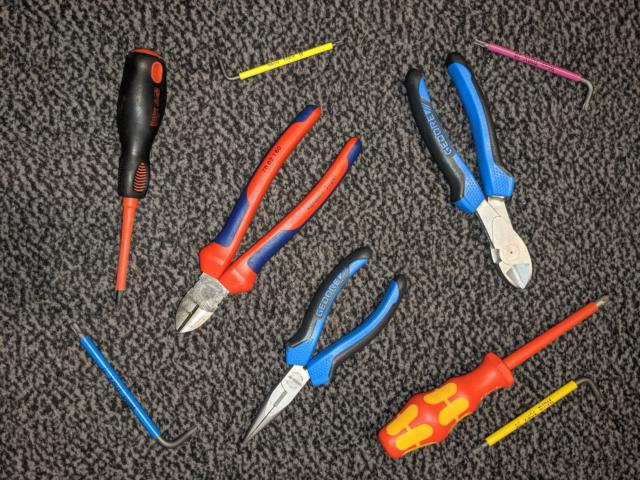Inbusschlüssel: (64, 317, 201, 456), (464, 375, 608, 463), (466, 32, 597, 113), (216, 34, 350, 87)
Schraubendreher: (375, 293, 616, 467), (109, 43, 173, 311)
Seitenschneider: (172, 101, 366, 338), (402, 48, 539, 294)
Zange: (236, 244, 409, 449)
